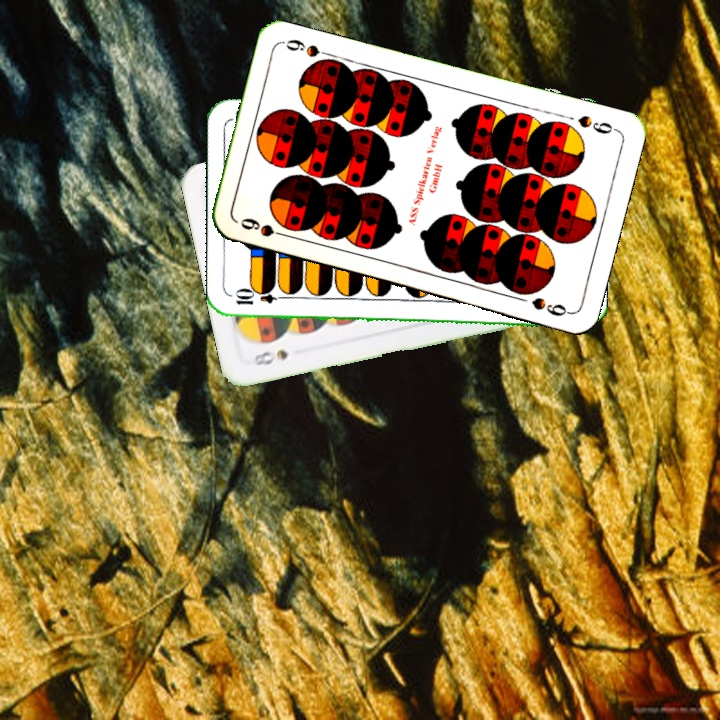E10: (231, 291, 290, 307)
S8: (248, 345, 291, 368)
S9: (236, 213, 293, 241), (574, 111, 620, 137)
